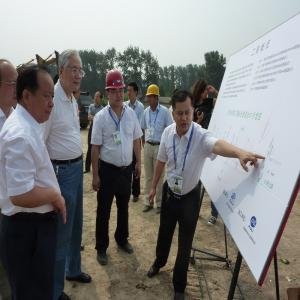none: (14, 65, 58, 123), (59, 49, 85, 89), (172, 90, 196, 133), (2, 57, 21, 109), (196, 78, 209, 102), (127, 83, 140, 103), (94, 91, 104, 105), (73, 87, 82, 101)
red: (106, 70, 127, 108)
yellow: (147, 85, 161, 108)
